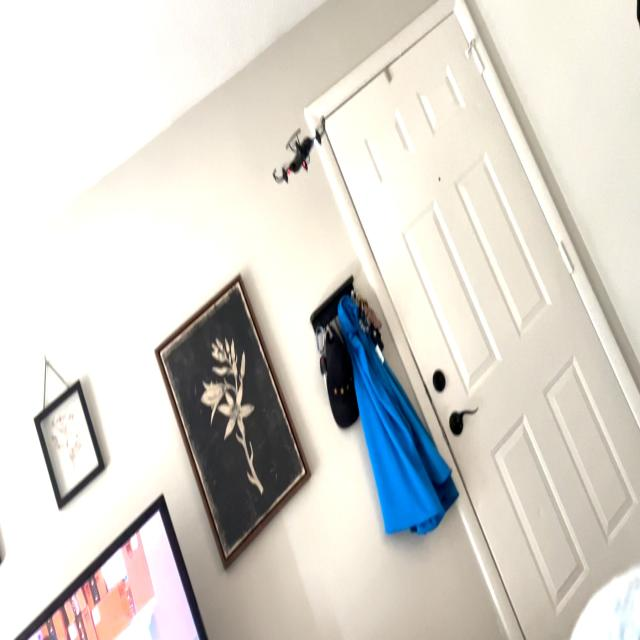drone: (264, 104, 330, 192)
